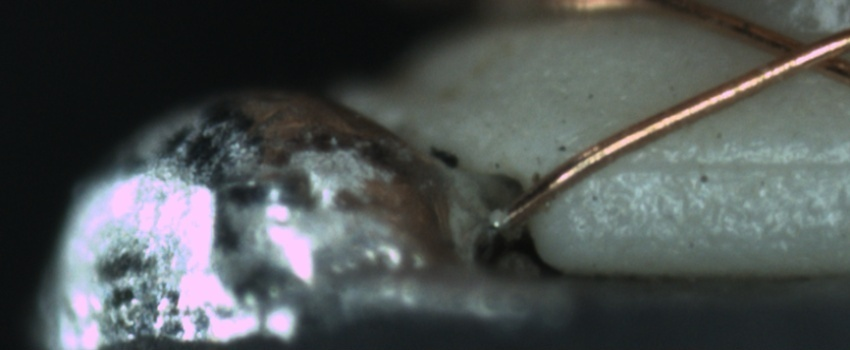CL: (750, 22, 846, 81)
DL: (607, 130, 844, 198)
